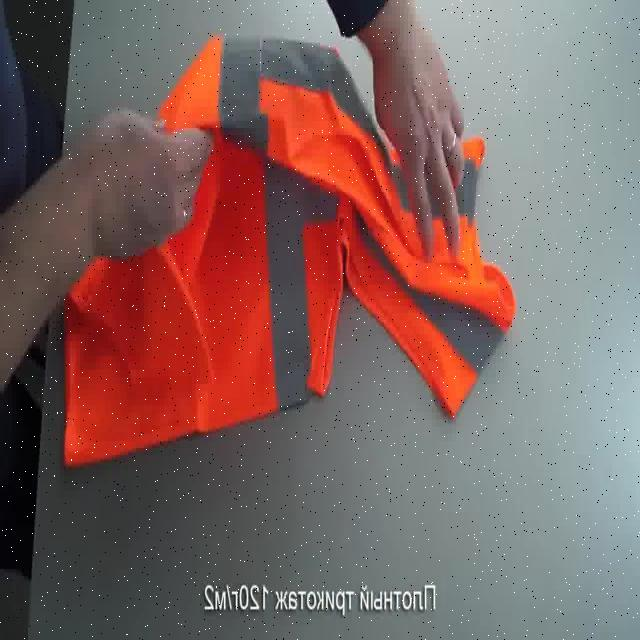Vest: (61, 50, 472, 469)
